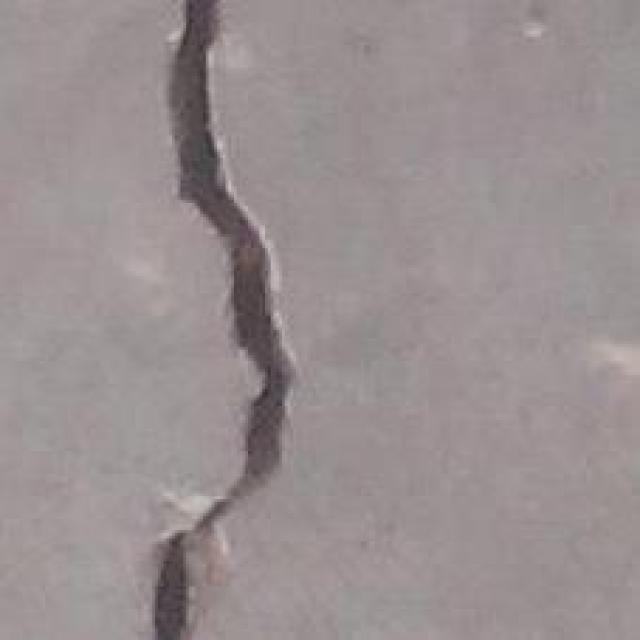Longitudinal: (153, 0, 291, 640)
